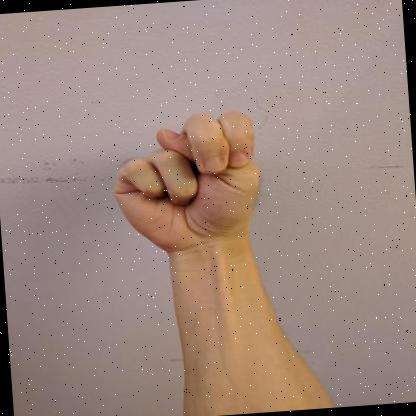N: (113, 111, 261, 256)
